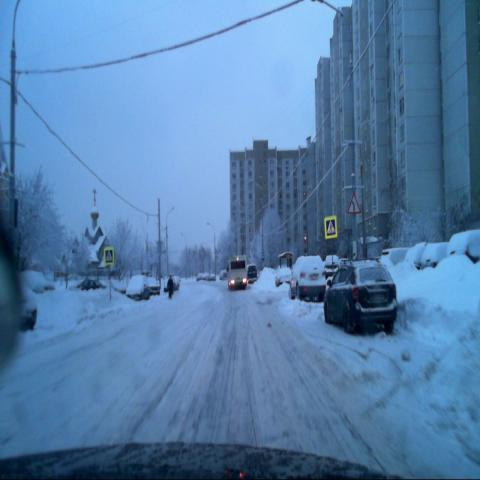1_11_1: (348, 194, 360, 214)
5_19_1: (324, 215, 337, 239), (104, 247, 114, 263)
